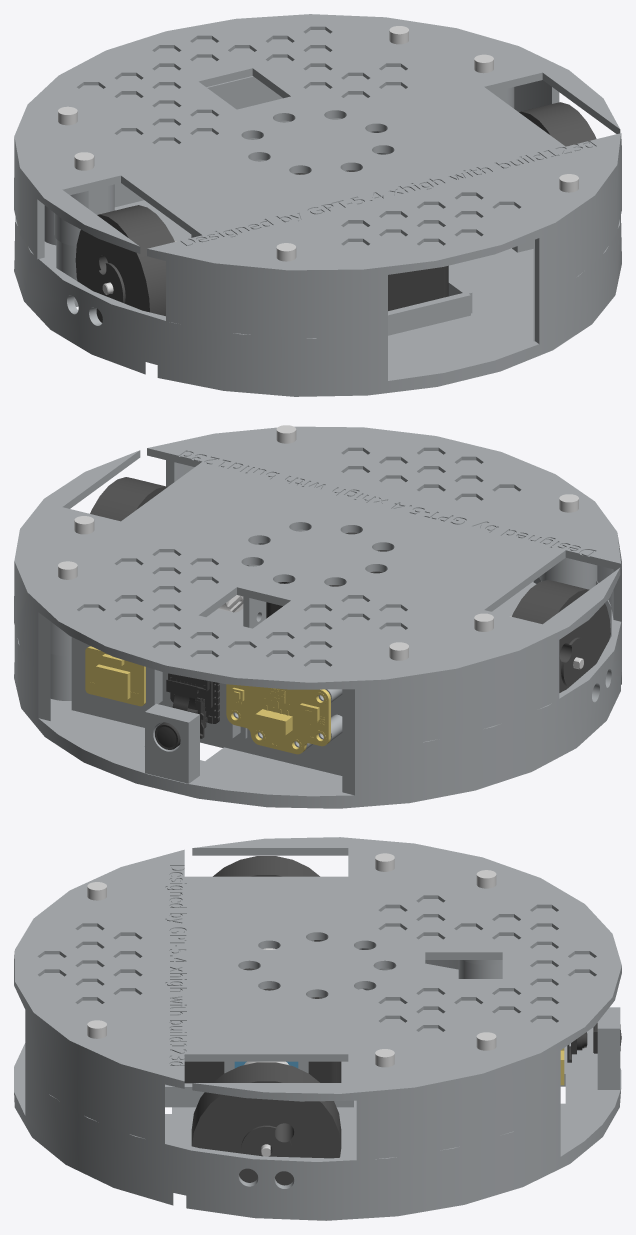
Rendered from flat-disk-robot.glb.
3 renders of one model, top to bottom at view 1: azimuth 30°, elevation 25°; view 2: azimuth 150°, elevation 25°; view 3: azimuth 270°, elevation 25°, orthographic.
Parts seen in each view (by area): view 1: =>[0:1:1:6], =>[0:1:1:4], =>[0:1:1:357], =>[0:1:1:9], =>[0:1:1:398]; view 2: =>[0:1:1:6], =>[0:1:1:4], =>[0:1:1:357], =>[0:1:1:139], =>[0:1:1:398], =>[0:1:1:328], =>[0:1:1:136], =>[0:1:1:330], =>[0:1:1:225]; view 3: =>[0:1:1:6], =>[0:1:1:4], =>[0:1:1:398], =>[0:1:1:357], =>[0:1:1:9].
Boxes of the visible parts, <box> form: =>[0:1:1:6]: <box>14,14,621,338</box>; =>[0:1:1:4]: <box>14,76,621,396</box>; =>[0:1:1:357]: <box>75,205,174,322</box>; =>[0:1:1:9]: <box>388,265,448,310</box>; =>[0:1:1:398]: <box>519,102,596,146</box>; =>[0:1:1:6]: <box>14,426,621,749</box>; =>[0:1:1:4]: <box>14,529,621,808</box>; =>[0:1:1:357]: <box>512,580,610,692</box>; =>[0:1:1:139]: <box>226,684,330,754</box>; =>[0:1:1:398]: <box>90,477,167,521</box>; =>[0:1:1:328]: <box>85,646,145,706</box>; =>[0:1:1:136]: <box>155,679,197,749</box>; =>[0:1:1:330]: <box>96,664,130,699</box>; =>[0:1:1:225]: <box>255,709,292,735</box>; =>[0:1:1:6]: <box>14,837,621,1160</box>; =>[0:1:1:4]: <box>14,940,621,1220</box>; =>[0:1:1:398]: <box>191,1062,341,1185</box>; =>[0:1:1:357]: <box>213,856,323,941</box>; =>[0:1:1:9]: <box>184,1061,341,1083</box>.
Bounding box in the file's own units: 0.216 × 0.0578 × 0.2155.
